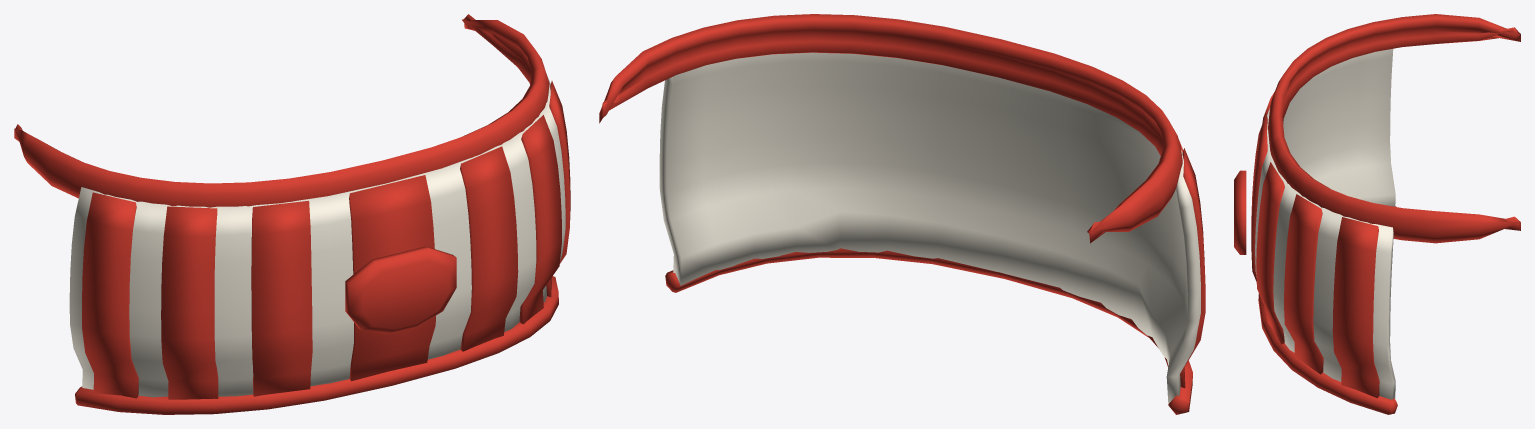
The model's file is outfit_stripes.glb.
The picture shows the model from 3 angles, left to right: view 1: azimuth 30°, elevation 25°; view 2: azimuth 150°, elevation 25°; view 3: azimuth 270°, elevation 25°; orthographic projection. The views are drawn at different scales.
Visible parts, largest first — view 1: OutfitStripes; view 2: OutfitStripes; view 3: OutfitStripes.
Part boxes in pixels (x1,y1,x2,y2): OutfitStripes: (14, 14, 570, 414); OutfitStripes: (599, 14, 1205, 414); OutfitStripes: (1234, 14, 1520, 414).
Bounding box in the file's own units: 0.6435 × 0.2963 × 0.3755.
